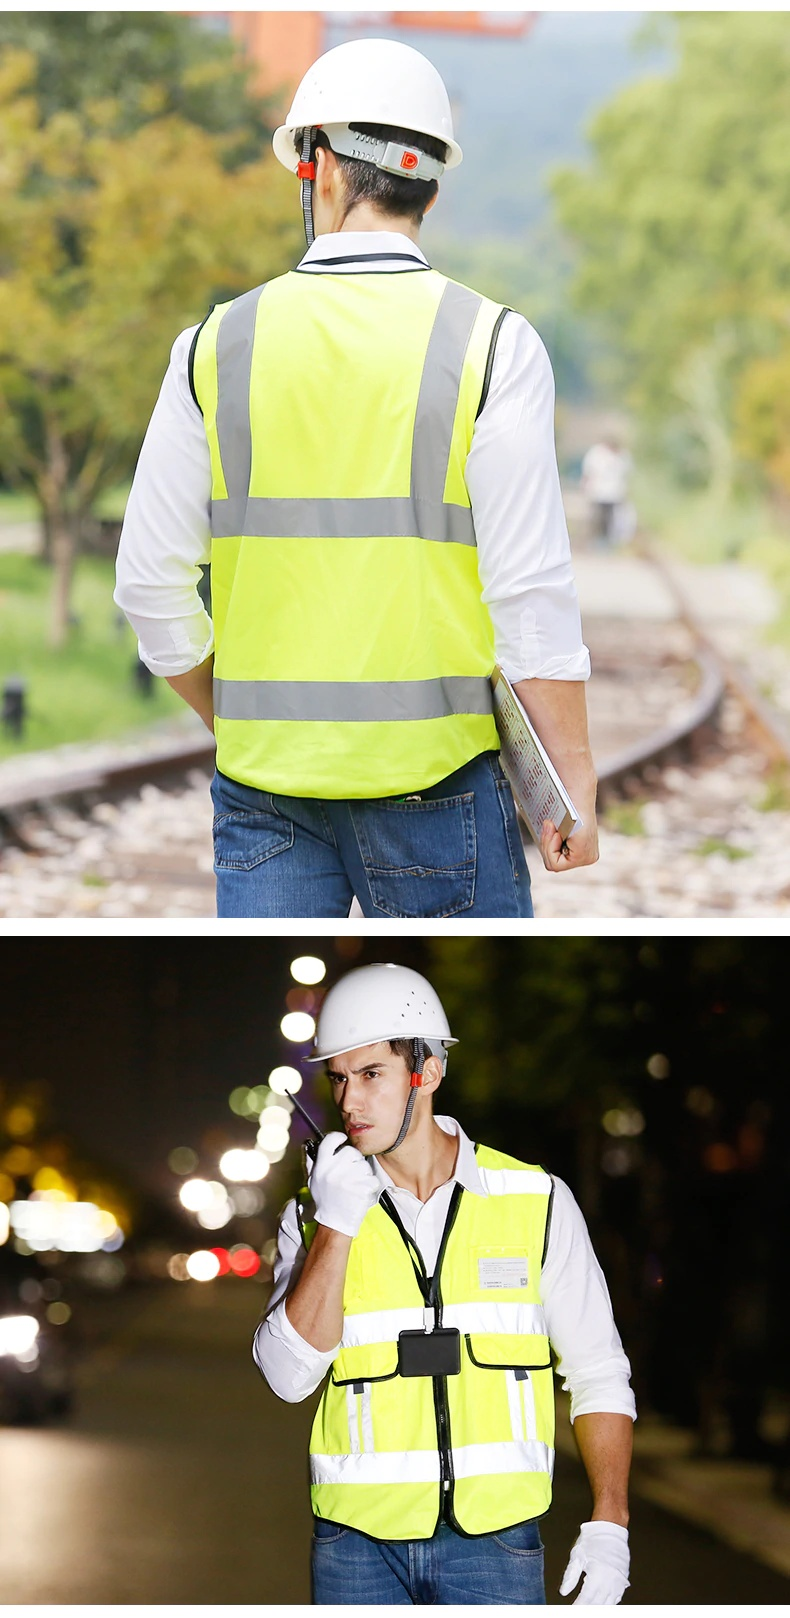helmet: (273, 49, 465, 167), (305, 960, 460, 1070)
person with full safety: (110, 40, 605, 919), (253, 955, 638, 1605)
safety vest: (185, 259, 517, 807), (295, 1135, 560, 1537)
